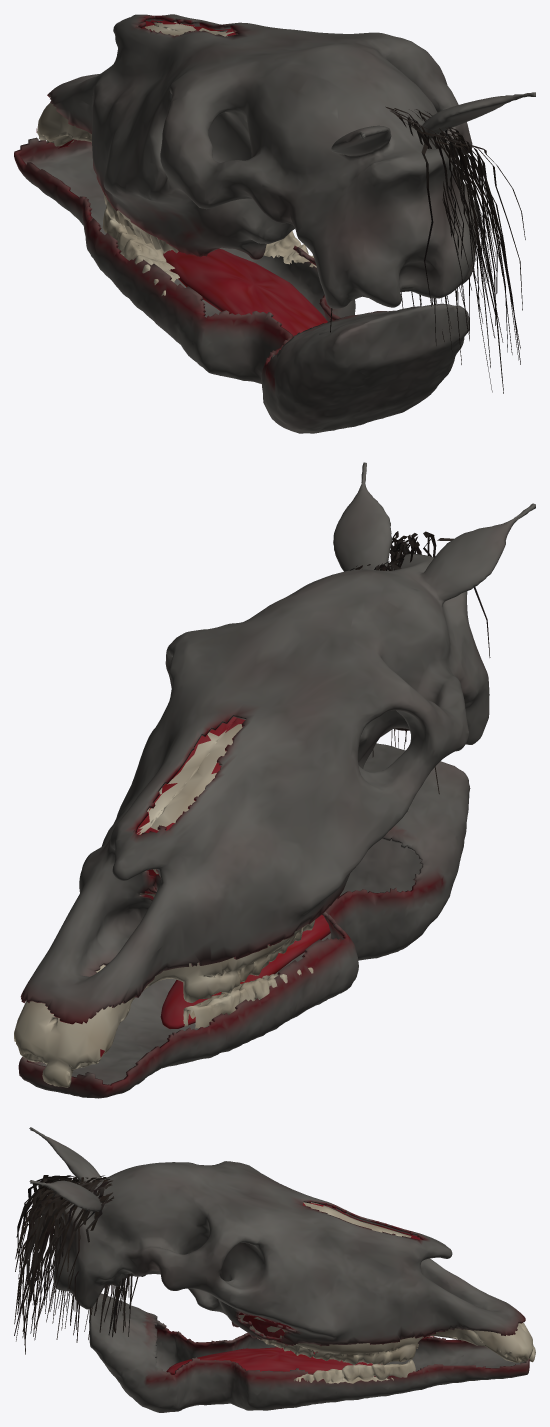
Rendered from long-horse-head-web.glb.
3 views of the same model, one above another, from view 1: azimuth 30°, elevation 25°; view 2: azimuth 150°, elevation 25°; view 3: azimuth 270°, elevation 25° (orthographic). The views are drawn at different scales.
Visible parts, largest first — view 1: Mask_Torn_equine_mask_skin, Jaw_Torn_equine_mask_skin, Mask_Matted_black_horse_mane, Jaw_Wet_torn_tissue, Mask_Damp_exposed_ivory, Jaw_Damp_exposed_ivory; view 2: Mask_Torn_equine_mask_skin, Jaw_Torn_equine_mask_skin, Mask_Damp_exposed_ivory, Jaw_Wet_torn_tissue, Jaw_Damp_exposed_ivory, Mask_Matted_black_horse_mane, Mask_Wet_torn_tissue; view 3: Mask_Torn_equine_mask_skin, Jaw_Torn_equine_mask_skin, Mask_Matted_black_horse_mane, Mask_Damp_exposed_ivory, Jaw_Wet_torn_tissue, Jaw_Damp_exposed_ivory, Mask_Wet_torn_tissue.
Boxes of the visible parts, x1,y1,x2,y2 form: Mask_Torn_equine_mask_skin: (47, 14, 535, 308); Jaw_Torn_equine_mask_skin: (14, 137, 469, 433); Mask_Matted_black_horse_mane: (330, 106, 525, 393); Jaw_Wet_torn_tissue: (163, 248, 327, 336); Mask_Damp_exposed_ivory: (37, 22, 233, 253); Jaw_Damp_exposed_ivory: (102, 206, 316, 295); Mask_Torn_equine_mask_skin: (20, 462, 535, 1024); Jaw_Torn_equine_mask_skin: (18, 743, 470, 1098); Mask_Damp_exposed_ivory: (14, 724, 314, 1087); Jaw_Wet_torn_tissue: (160, 896, 339, 1028); Jaw_Damp_exposed_ivory: (183, 967, 313, 1028); Mask_Matted_black_horse_mane: (350, 531, 490, 794); Mask_Wet_torn_tissue: (100, 716, 244, 1057); Mask_Torn_equine_mask_skin: (29, 1127, 525, 1346); Jaw_Torn_equine_mask_skin: (89, 1293, 529, 1412); Mask_Matted_black_horse_mane: (14, 1175, 138, 1354); Mask_Damp_exposed_ivory: (239, 1202, 535, 1365); Jaw_Wet_torn_tissue: (166, 1347, 381, 1374); Jaw_Damp_exposed_ivory: (294, 1360, 415, 1383); Mask_Wet_torn_tissue: (239, 1203, 433, 1354).
Size of the model in its own units: 0.6152 by 0.8223 by 1.57.
